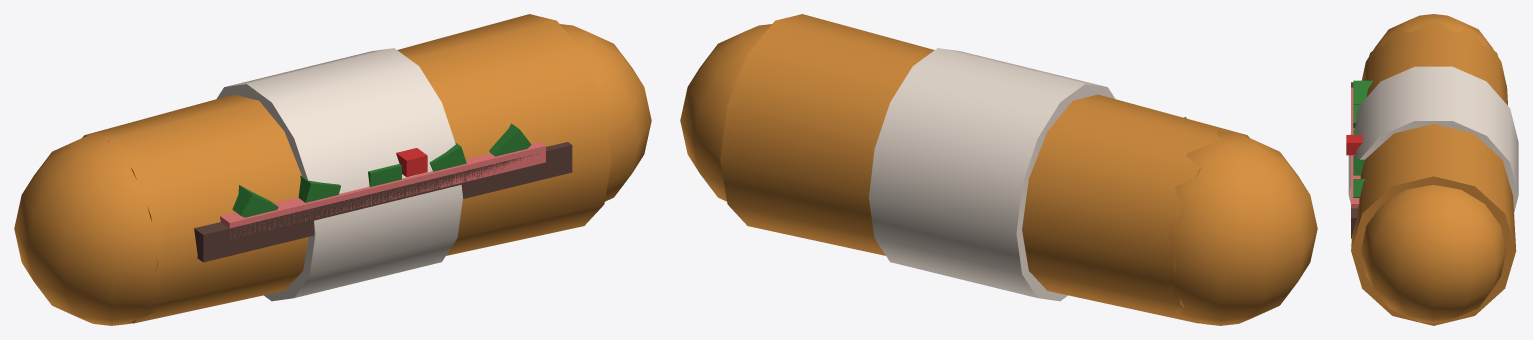
The model's file is banhmi.glb.
3 renders of one model, left to right at view 1: azimuth 30°, elevation 25°; view 2: azimuth 150°, elevation 25°; view 3: azimuth 270°, elevation 25°, orthographic. The views are drawn at different scales.
Visible parts, largest first — view 1: banhmi; view 2: banhmi; view 3: banhmi.
Part boxes in pixels (x1,y1,x2,y2): banhmi: (14, 14, 651, 325); banhmi: (680, 14, 1317, 325); banhmi: (1346, 14, 1518, 325).
Size of the model in its own units: 1.16 by 0.3607 by 0.375.
